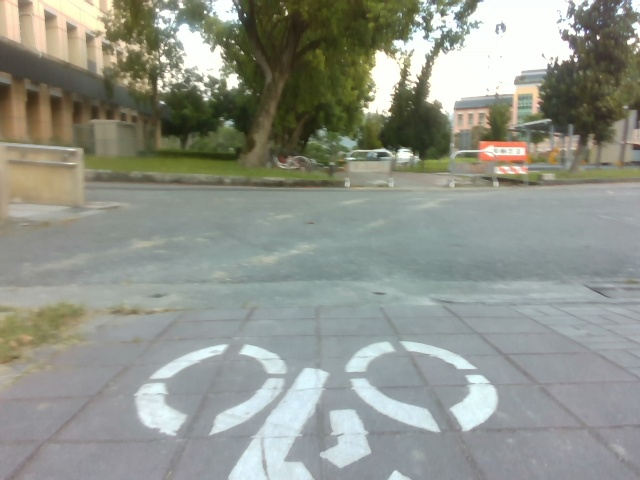grass: (98, 0, 486, 168), (475, 0, 639, 172), (20, 139, 449, 201), (473, 168, 639, 186)
road: (0, 183, 639, 479)
sidewalk: (0, 287, 79, 334)
